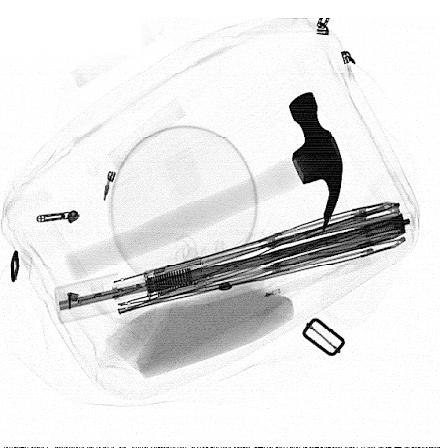Hammer: (65, 91, 344, 279)
